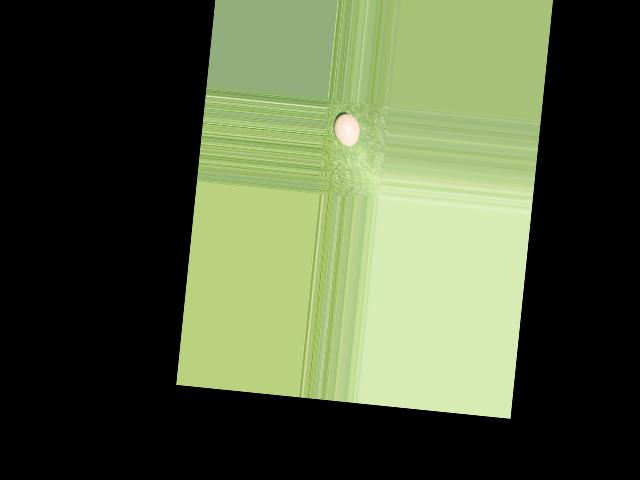egg: (331, 112, 360, 148)
